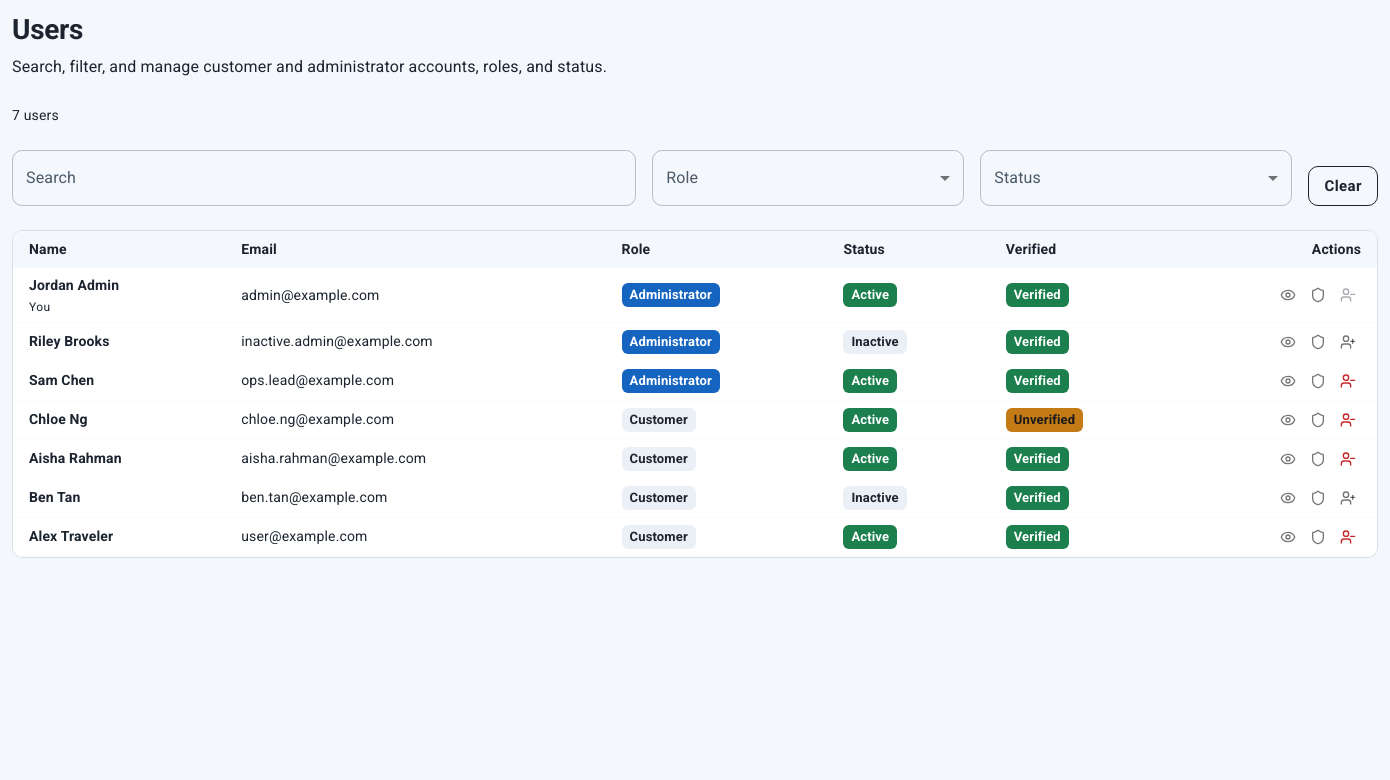
Test case: AdminUsersPage › filters by role and status
Expected: the text "user@example.com" is shown, [225, 518, 606, 557]
Click the 1st dropdown named "Role". click: (808, 178)
box: [652, 150, 964, 206]
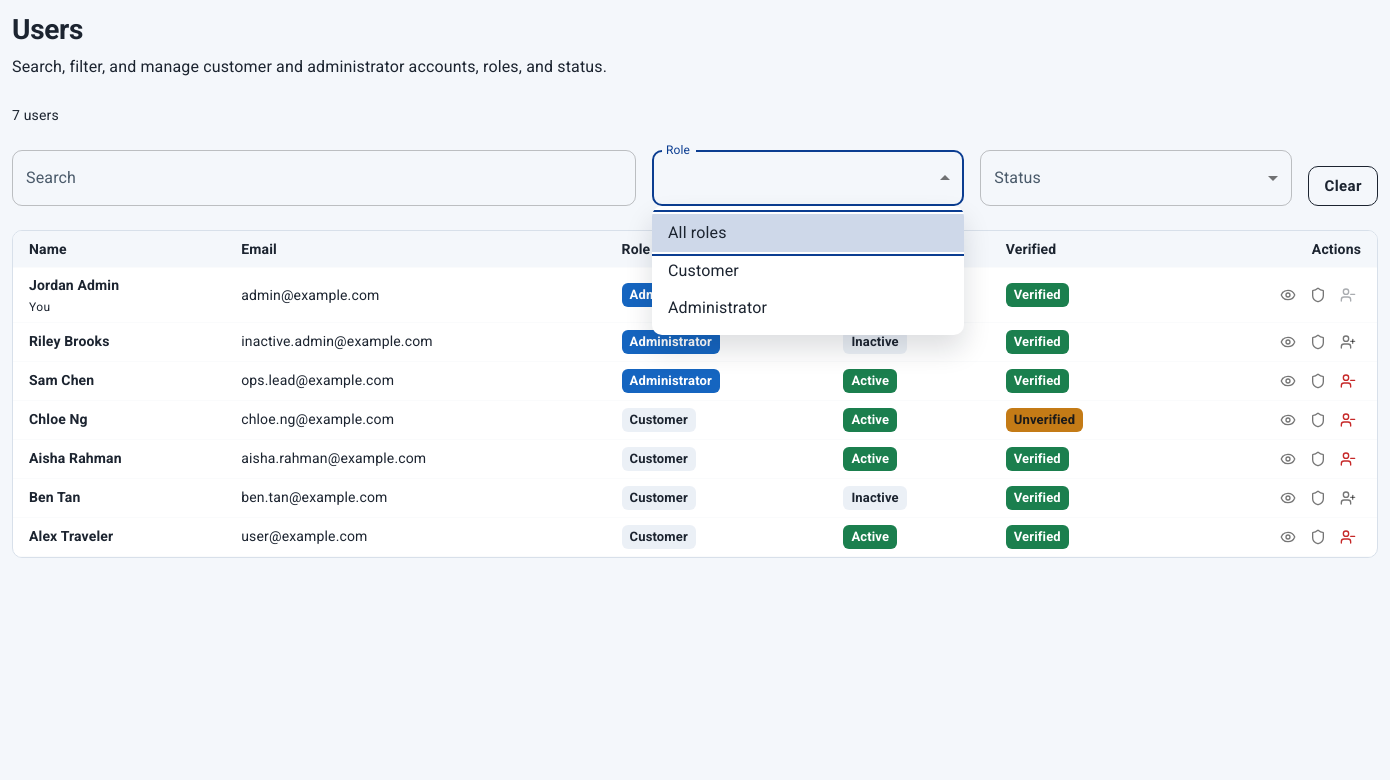
Click the option "Administrator". click: (718, 308)
box: [668, 298, 767, 317]
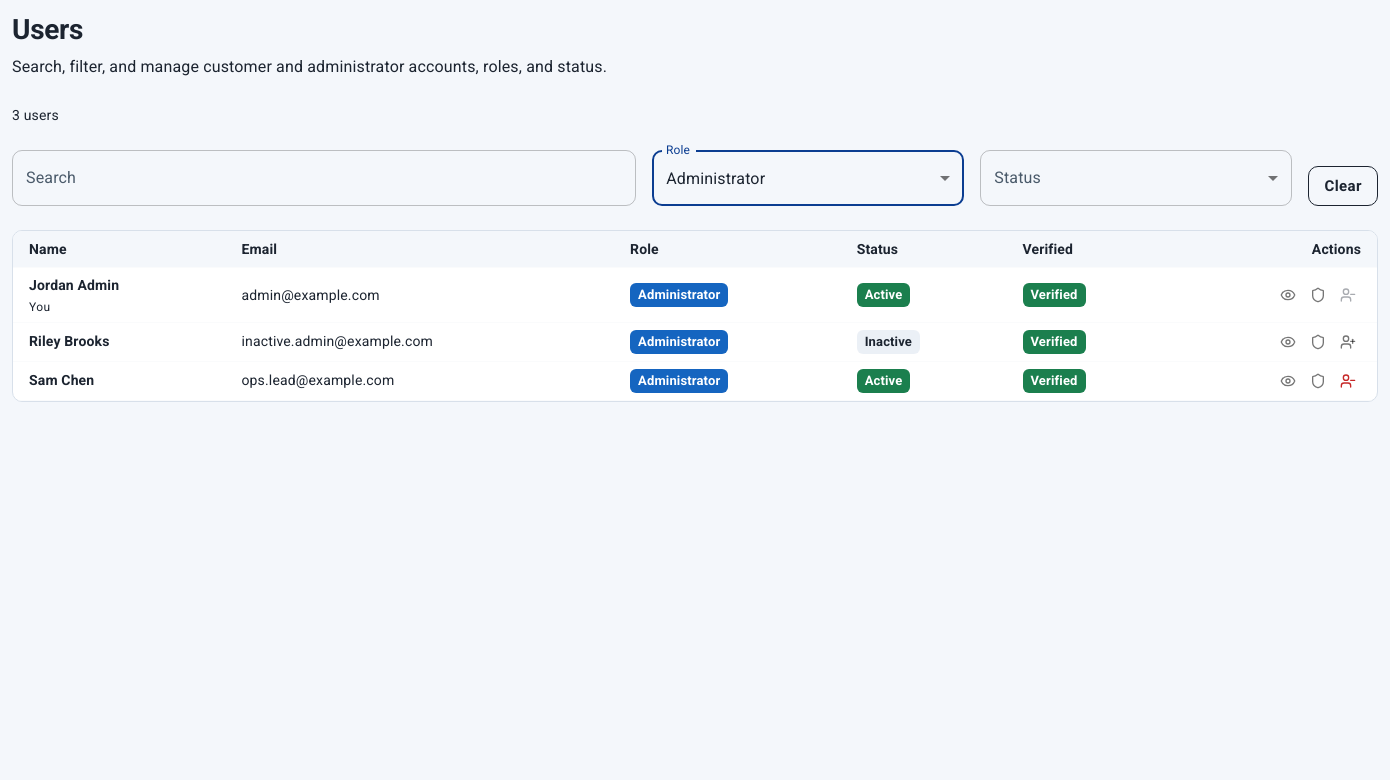
Expected: the text "admin@example.com" is shown, [226, 268, 614, 323]
Expected: the list is gone
Expected: the text "user@example.com" is gone
Click the button "Clear". click: (1343, 186)
box: [1308, 166, 1378, 206]
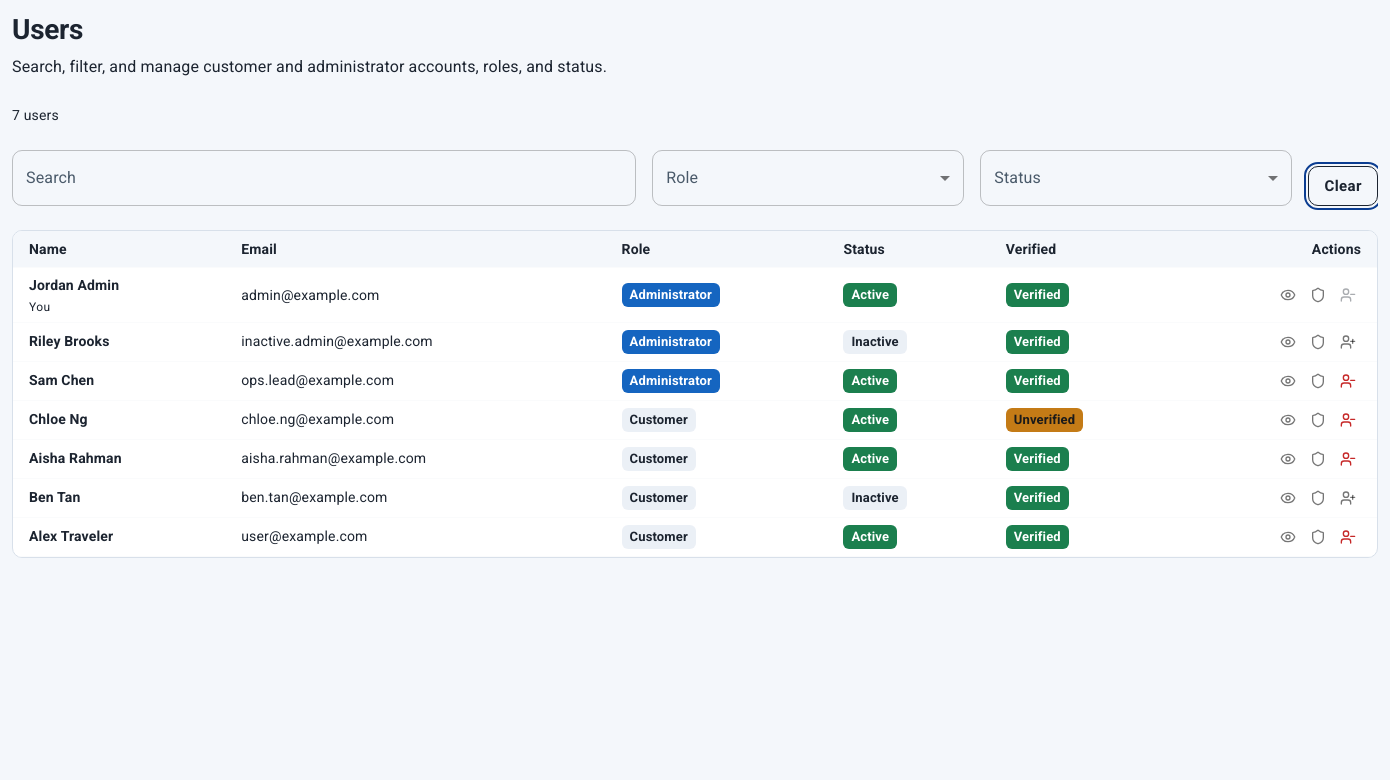
Expected: the text "user@example.com" is shown, [225, 518, 606, 557]
Click the 2nd dropdown named "Status". click: (1136, 178)
box: [980, 150, 1292, 206]
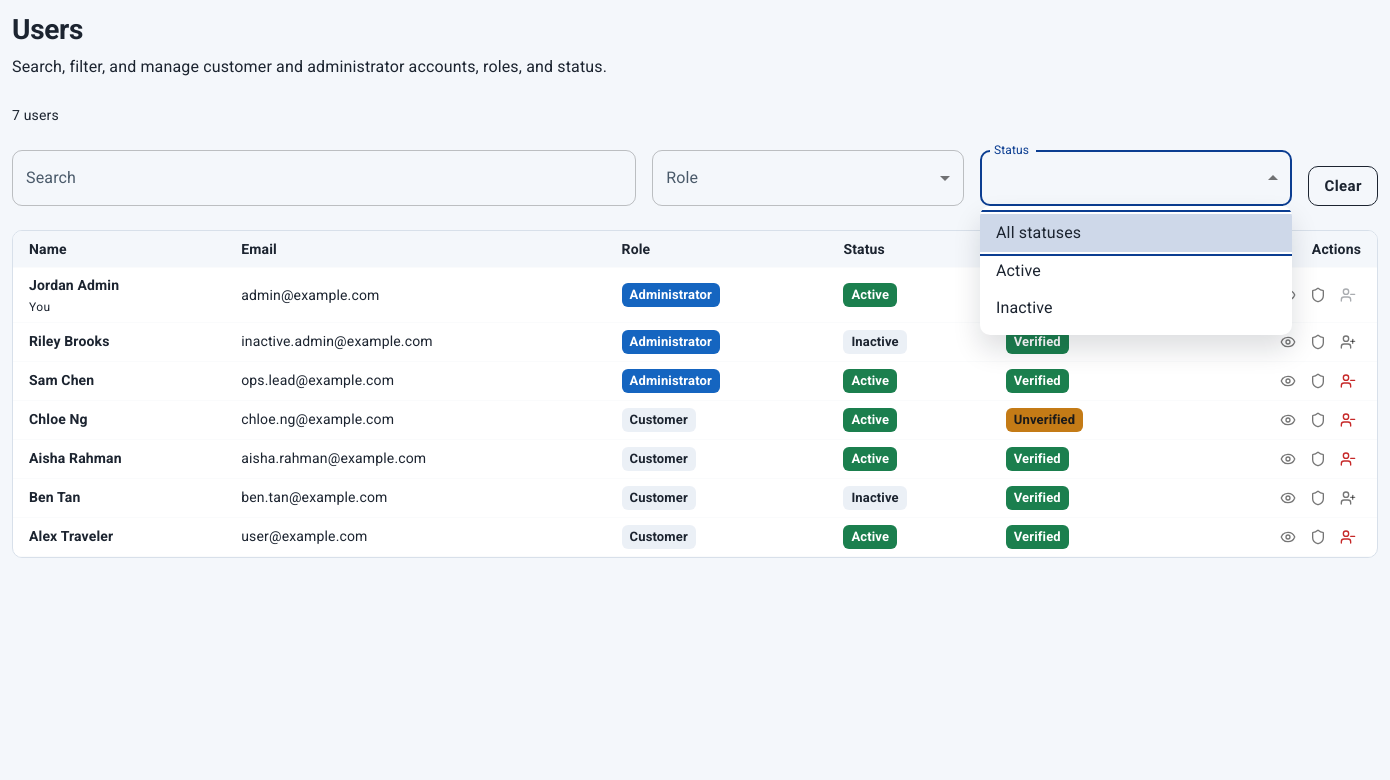
Click the option "Inactive". click: (1024, 308)
box: [996, 298, 1053, 317]
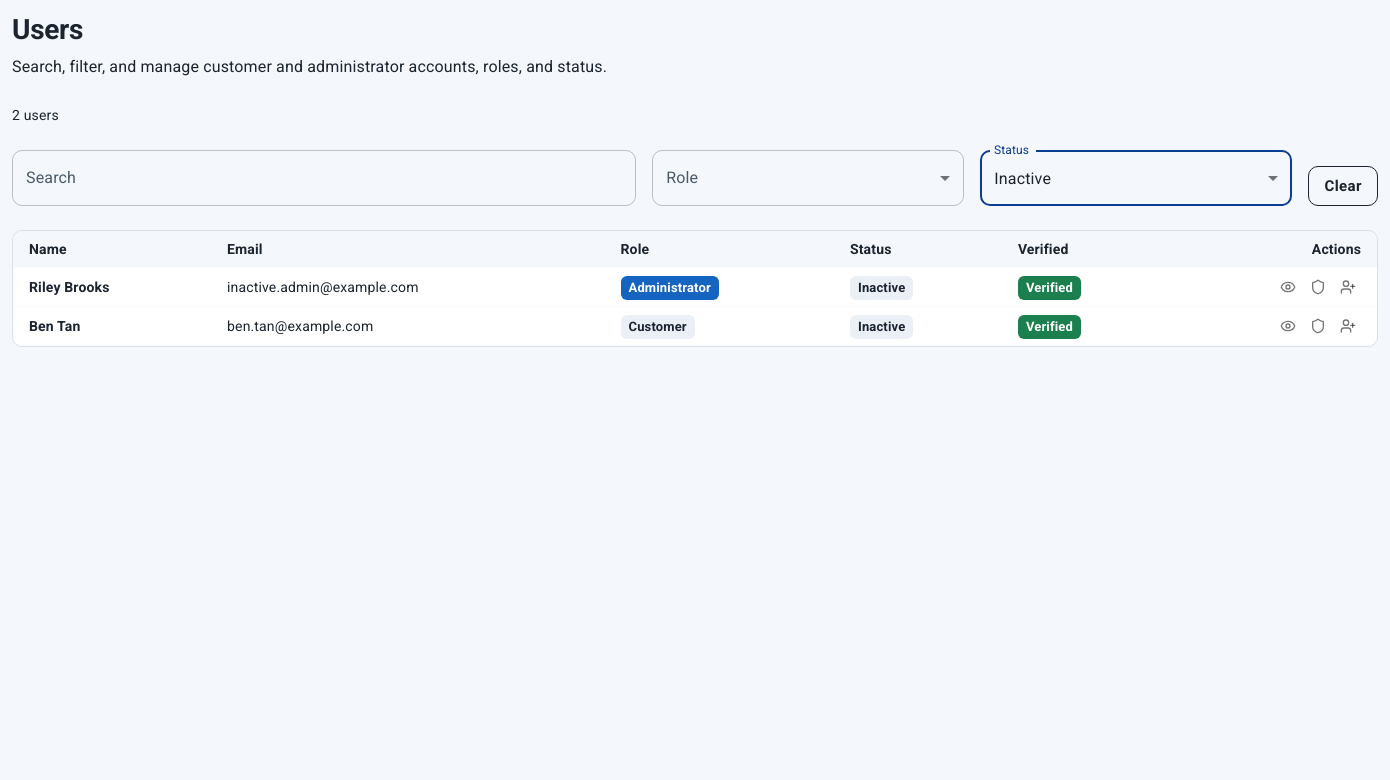
Expected: the text "ben.tan@example.com" is shown, [211, 307, 604, 346]
Expected: the list is gone
Expected: the text "user@example.com" is gone
